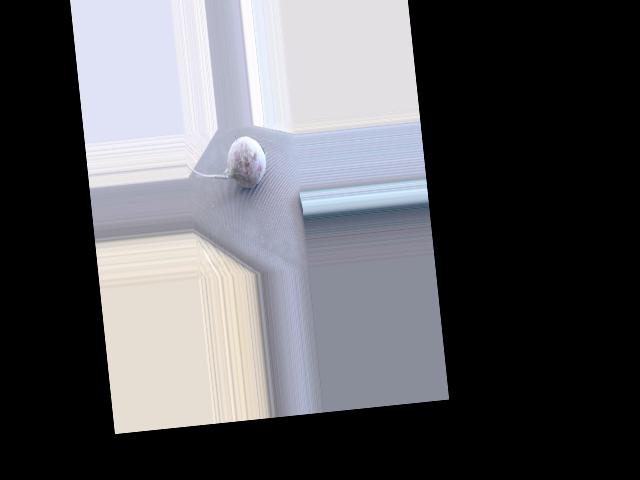beet: (184, 135, 268, 193)
